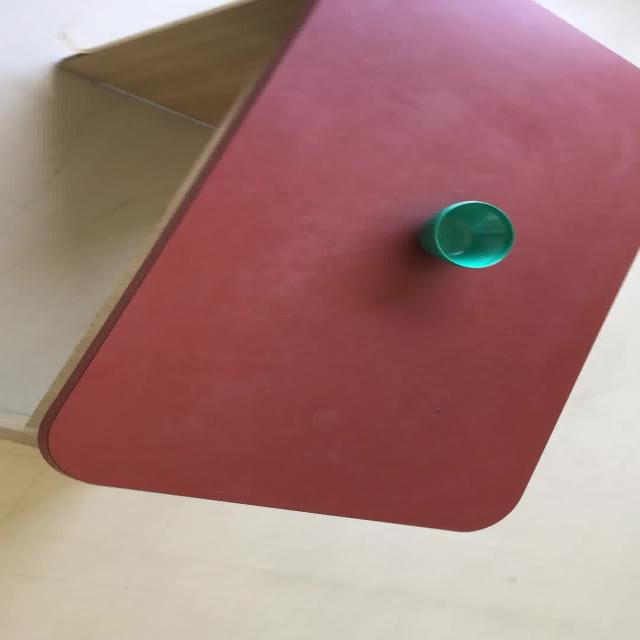bowl: (29, 0, 637, 532), (417, 199, 515, 268)
